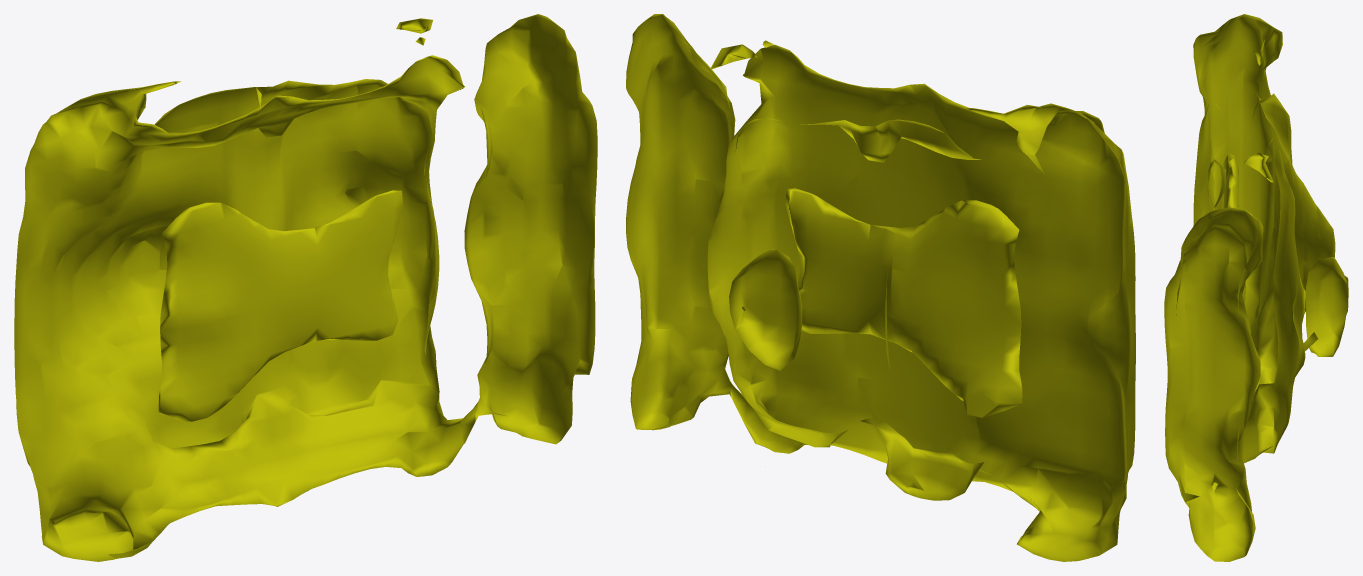
3 renders of one model, left to right at view 1: azimuth 30°, elevation 25°; view 2: azimuth 150°, elevation 25°; view 3: azimuth 270°, elevation 25°, orthographic. The views are drawn at different scales.
Parts seen in each view (by area): view 1: world; view 2: world; view 3: world.
Part boxes in pixels (bbox=[...]): world: bbox=[14, 14, 597, 561]; world: bbox=[626, 14, 1135, 561]; world: bbox=[1164, 14, 1348, 561].
Size of the model in its own units: 35.09 by 28.37 by 12.45.
